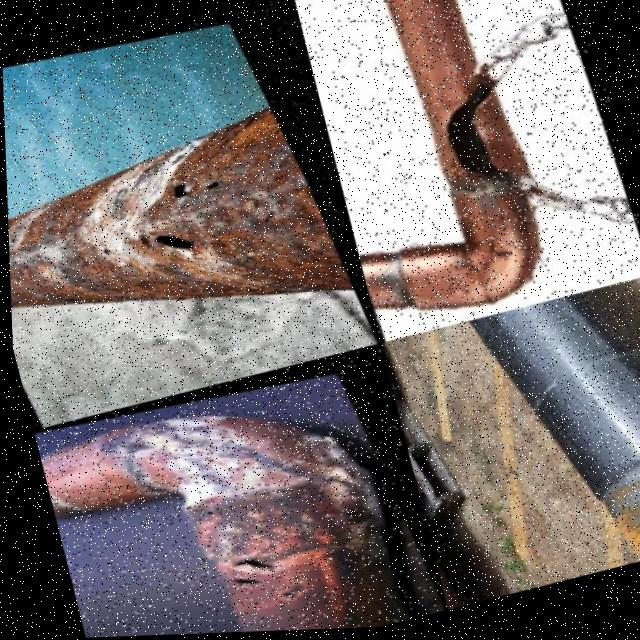hole: (147, 221, 205, 262), (220, 549, 272, 581), (153, 175, 202, 206), (267, 571, 309, 603), (221, 570, 260, 593), (202, 170, 234, 193), (8, 231, 28, 248), (94, 244, 116, 258)
rupture: (431, 78, 525, 204)
